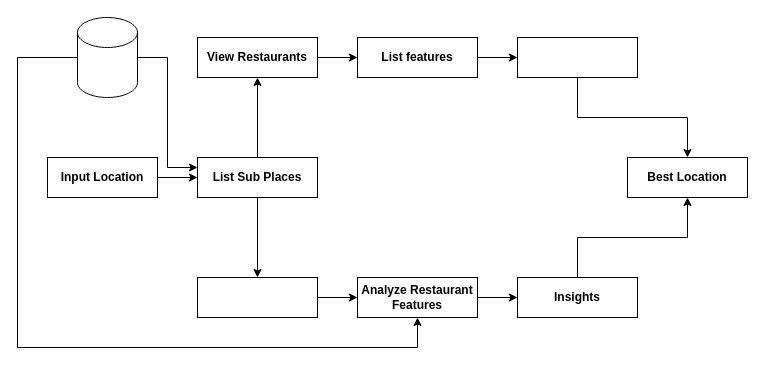
The diagram is 765 pixels wide and 373 high, and some of its shapes have lost their labels. The shapes that lost their labels are listed below. From the top down, each one's centre as x and y in pixels, then its label:
At (107,57): "Dataset".
At (577,57): "Most Crowded days".
At (257,297): "LookUp".
